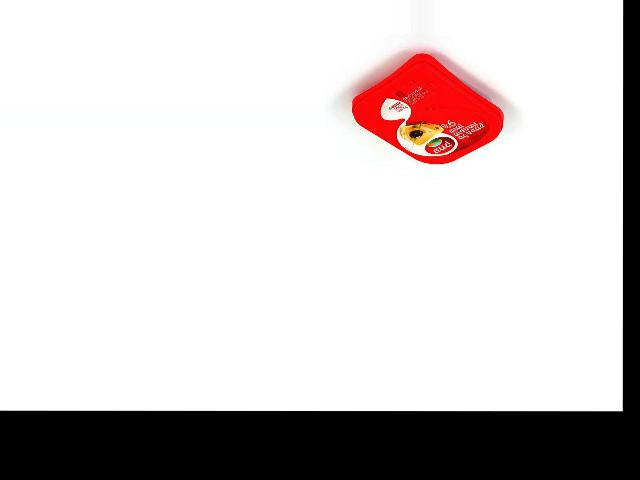cheese: (351, 52, 503, 164)
